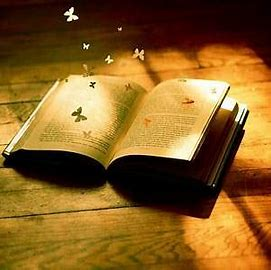book: (1, 72, 251, 219)
